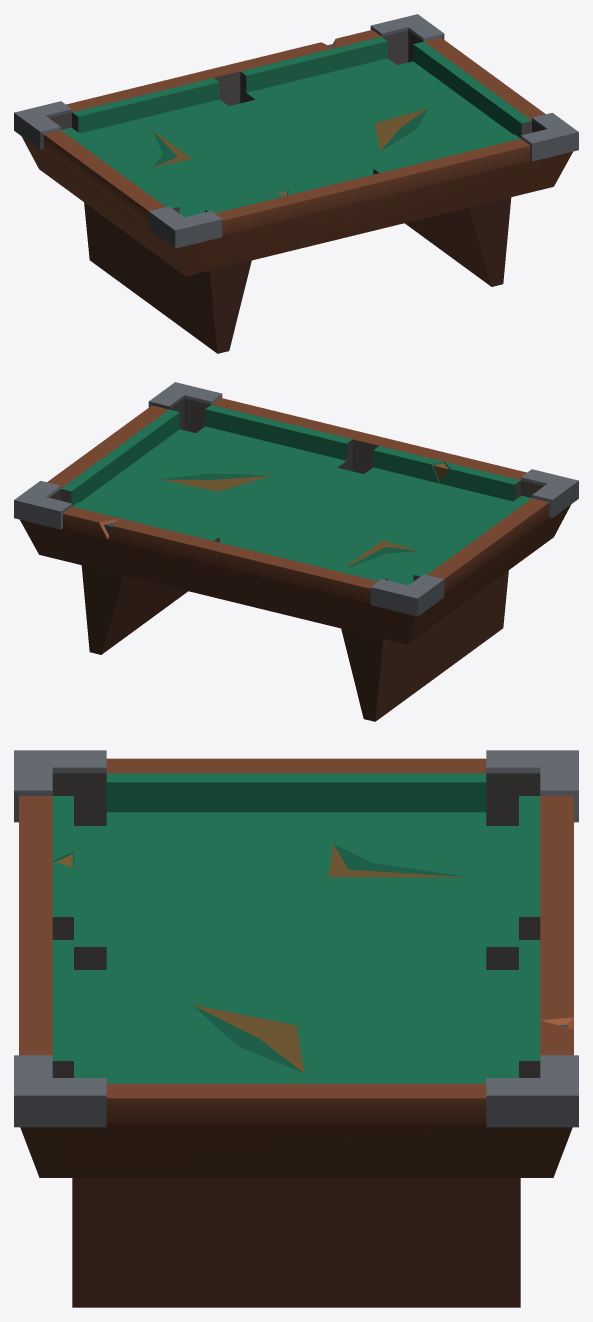
The model's file is AI_Prop_PoolTable_Damaged_Empty.fbx.
The picture shows the model from 3 angles, top to bottom: view 1: azimuth 30°, elevation 25°; view 2: azimuth 150°, elevation 25°; view 3: azimuth 270°, elevation 25°; orthographic projection. The views are drawn at different scales.
Parts seen in each view (by area): view 1: AI_Prop_PoolTable_Damaged_Empty; view 2: AI_Prop_PoolTable_Damaged_Empty; view 3: AI_Prop_PoolTable_Damaged_Empty.
Part boxes in pixels (x1,y1,x2,y2): AI_Prop_PoolTable_Damaged_Empty: (14, 14, 578, 353); AI_Prop_PoolTable_Damaged_Empty: (14, 382, 578, 721); AI_Prop_PoolTable_Damaged_Empty: (14, 750, 578, 1307).
Bounding box in the file's own units: 4.45 × 1.58 × 3.07.
